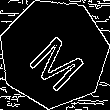M_NE: (20, 19, 88, 88)
